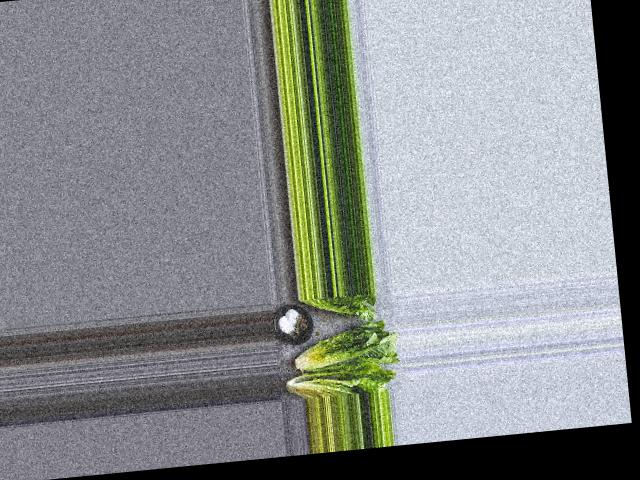lettuce: (278, 362, 389, 400)
